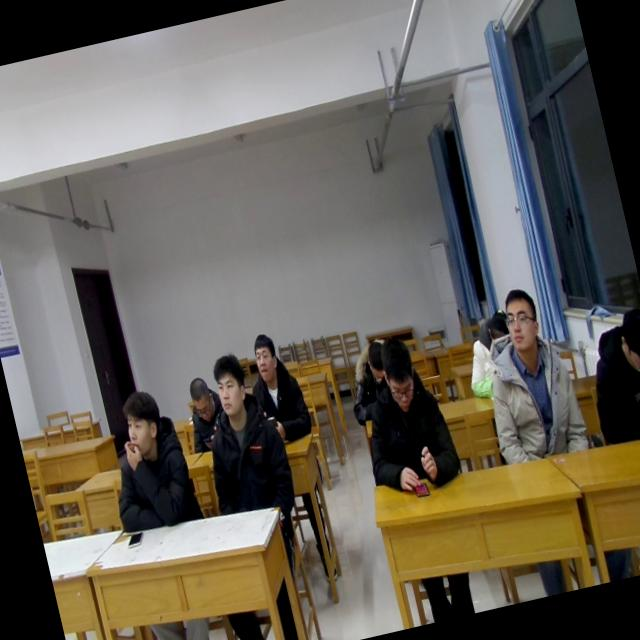bow: (452, 301, 526, 402), (335, 330, 403, 428)
down: (371, 328, 424, 414), (606, 292, 640, 382), (182, 368, 216, 424), (478, 302, 509, 348), (358, 334, 387, 381)
lookup: (494, 282, 548, 364), (112, 381, 170, 456), (205, 344, 255, 424), (244, 328, 284, 385)
sit: (464, 278, 595, 476), (343, 324, 466, 508), (181, 342, 300, 520), (90, 377, 207, 538), (573, 303, 640, 451), (239, 324, 316, 451), (177, 371, 232, 457)
